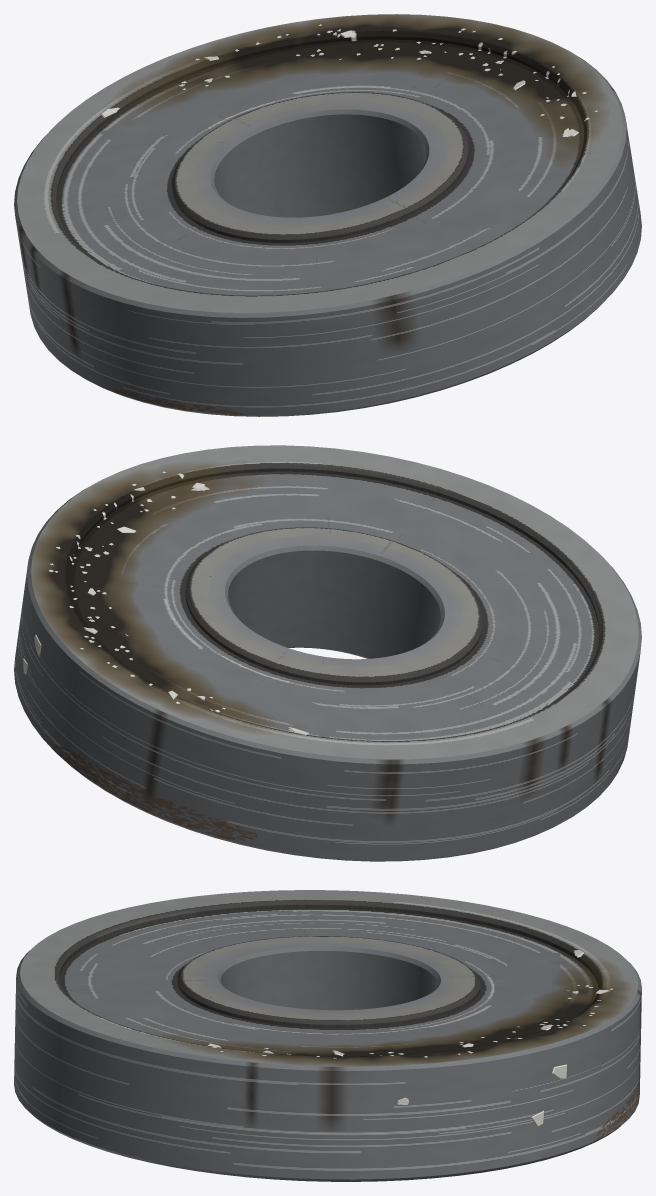
Rendered from UNIT07_FK_BearingWorn.fbx.
3 views of the same model, one above another, from view 1: azimuth 30°, elevation 25°; view 2: azimuth 150°, elevation 25°; view 3: azimuth 270°, elevation 25° (orthographic).
Visible parts, largest first — view 1: UNIT07_FK_BearingTop_L_Worn; view 2: UNIT07_FK_BearingTop_L_Worn, UNIT07_FK_BearingTop_L_Worn_Chips; view 3: UNIT07_FK_BearingTop_L_Worn, UNIT07_FK_BearingTop_L_Worn_Chips.
Boxes of the visible parts, bbox=[...] form: UNIT07_FK_BearingTop_L_Worn: bbox=[14, 14, 641, 416]; UNIT07_FK_BearingTop_L_Worn: bbox=[14, 445, 641, 861]; UNIT07_FK_BearingTop_L_Worn_Chips: bbox=[23, 482, 308, 734]; UNIT07_FK_BearingTop_L_Worn: bbox=[14, 890, 641, 1181]; UNIT07_FK_BearingTop_L_Worn_Chips: bbox=[208, 950, 609, 1126].
Bounding box in the file's own units: 0.0528 × 0.0175 × 0.0522.
